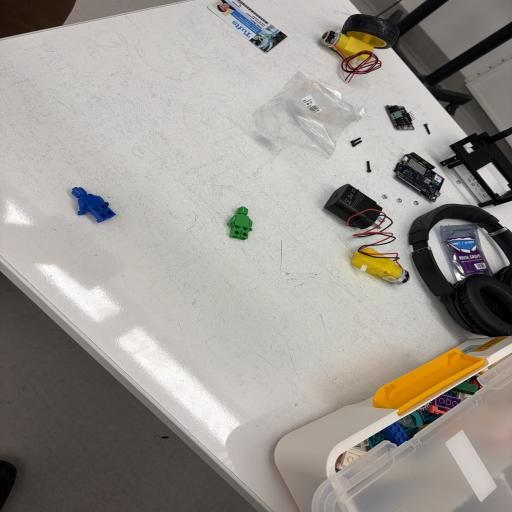Blue-Lego: (72, 187, 115, 223)
Green-Lego: (227, 207, 253, 240)
